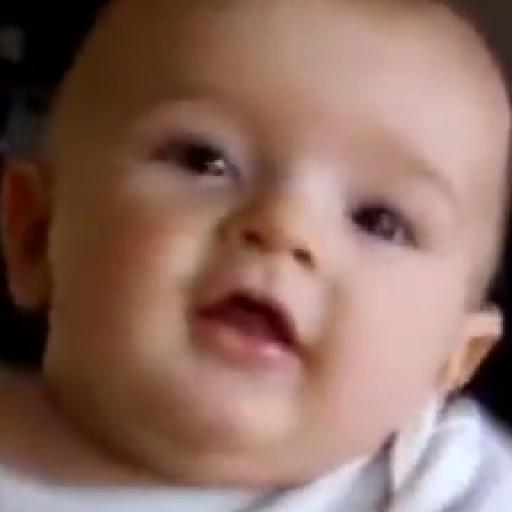Autism: (72, 8, 493, 491)
